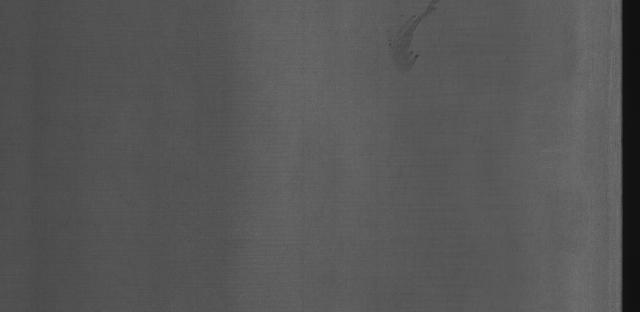water_spot: (380, 2, 442, 84)
